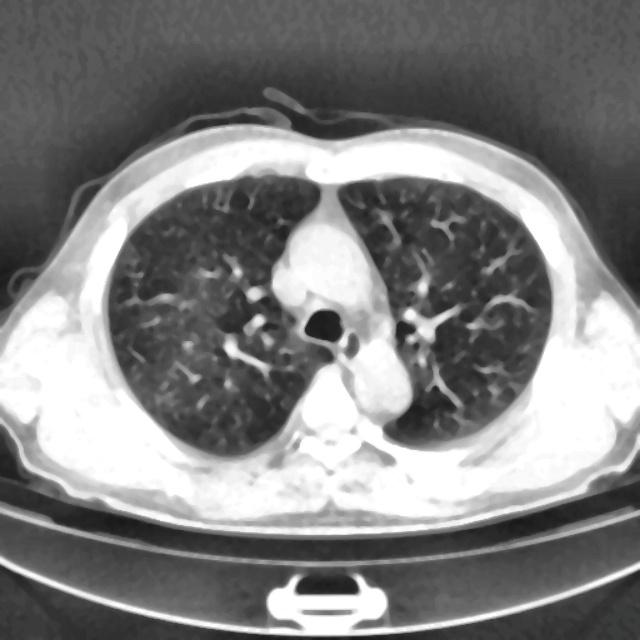covid: (0, 93, 639, 538)
